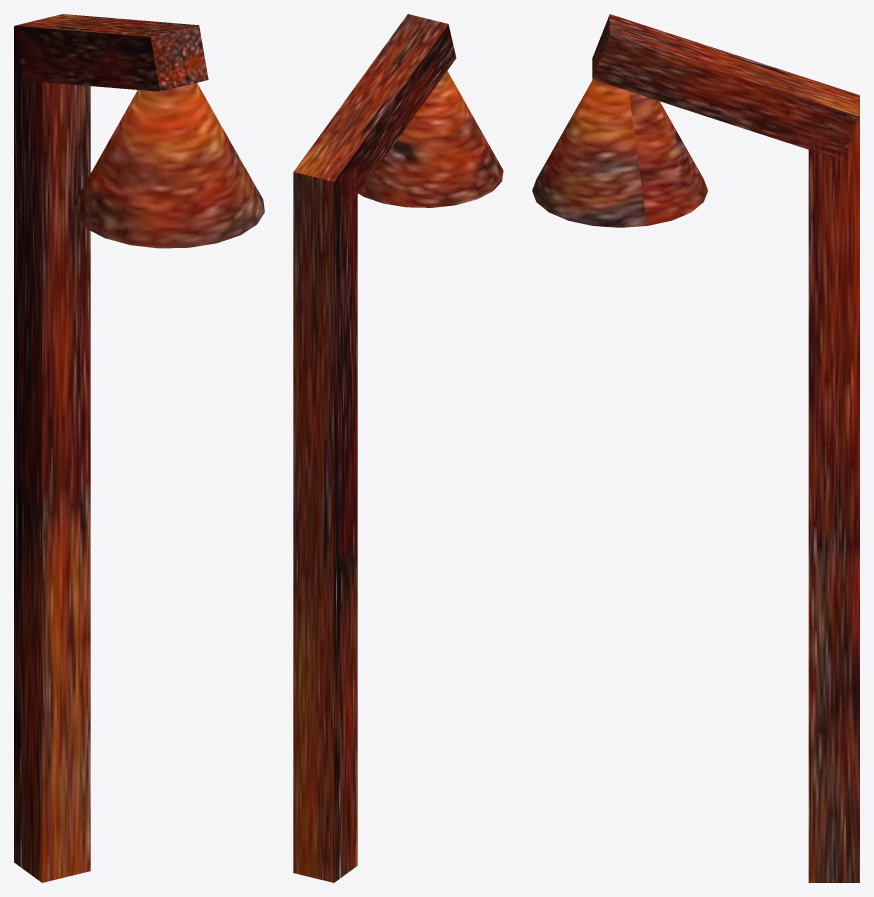
The model's file is field_obj_streetLight001.obj.
3 renders of one model, left to right at view 1: azimuth 30°, elevation 25°; view 2: azimuth 150°, elevation 25°; view 3: azimuth 270°, elevation 25°, orthographic. The views are drawn at different scales.
Visible parts, largest first — view 1: pCube2, pCone1, pCube1; view 2: pCube2, pCube1, pCone1; view 3: pCube2, pCube1, pCone1.
Part boxes in pixels (x1,y1,x2,y2): pCube2: (14, 26, 90, 882); pCone1: (73, 83, 264, 248); pCube1: (14, 14, 208, 91); pCube2: (293, 165, 357, 882); pCube1: (294, 14, 456, 215); pCone1: (358, 71, 503, 207); pCube2: (808, 96, 859, 882); pCube1: (592, 14, 859, 160); pCone1: (532, 79, 707, 227).
Size of the model in its own units: 0.8542 by 4.54 by 1.59.
2 materials, 1 textured.
